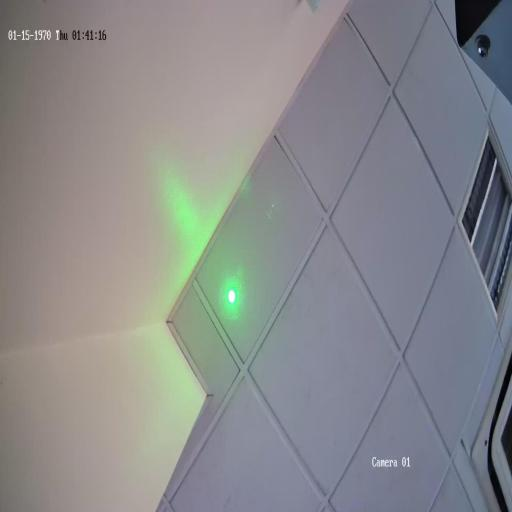laser: (218, 270, 244, 323)
